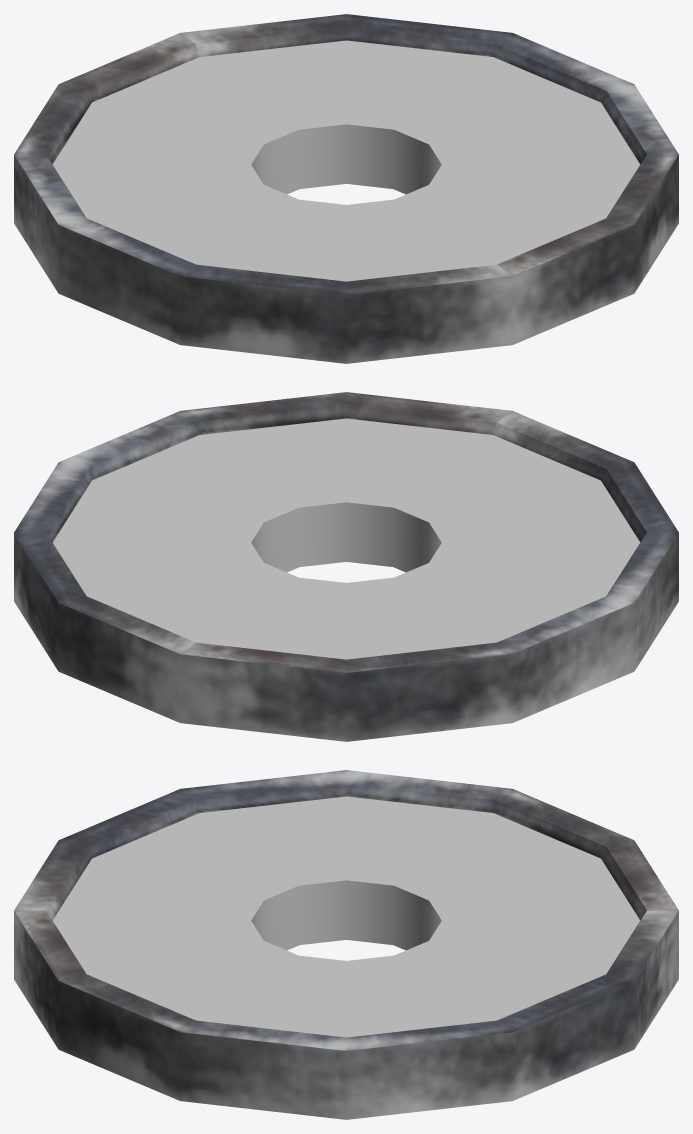
The model's file is SV_AFT_snow_chelun2_0.FBX.
3 views of the same model, one above another, from view 1: azimuth 30°, elevation 25°; view 2: azimuth 150°, elevation 25°; view 3: azimuth 270°, elevation 25° (orthographic).
Visible parts, largest first — view 1: SV_AFT_snow_chelun2_0_wood, SV_AFT_snow_chelun2_0_iron; view 2: SV_AFT_snow_chelun2_0_wood, SV_AFT_snow_chelun2_0_iron; view 3: SV_AFT_snow_chelun2_0_wood, SV_AFT_snow_chelun2_0_iron.
Part boxes in pixels (x1=…): SV_AFT_snow_chelun2_0_wood: x1=52, y1=40, x2=640, y2=281; SV_AFT_snow_chelun2_0_iron: x1=14, y1=14, x2=678, y2=363; SV_AFT_snow_chelun2_0_wood: x1=52, y1=418, x2=640, y2=659; SV_AFT_snow_chelun2_0_iron: x1=14, y1=392, x2=678, y2=741; SV_AFT_snow_chelun2_0_wood: x1=52, y1=796, x2=640, y2=1037; SV_AFT_snow_chelun2_0_iron: x1=14, y1=770, x2=678, y2=1119.
Size of the model in its own units: 1.34 by 0.153 by 1.34.
